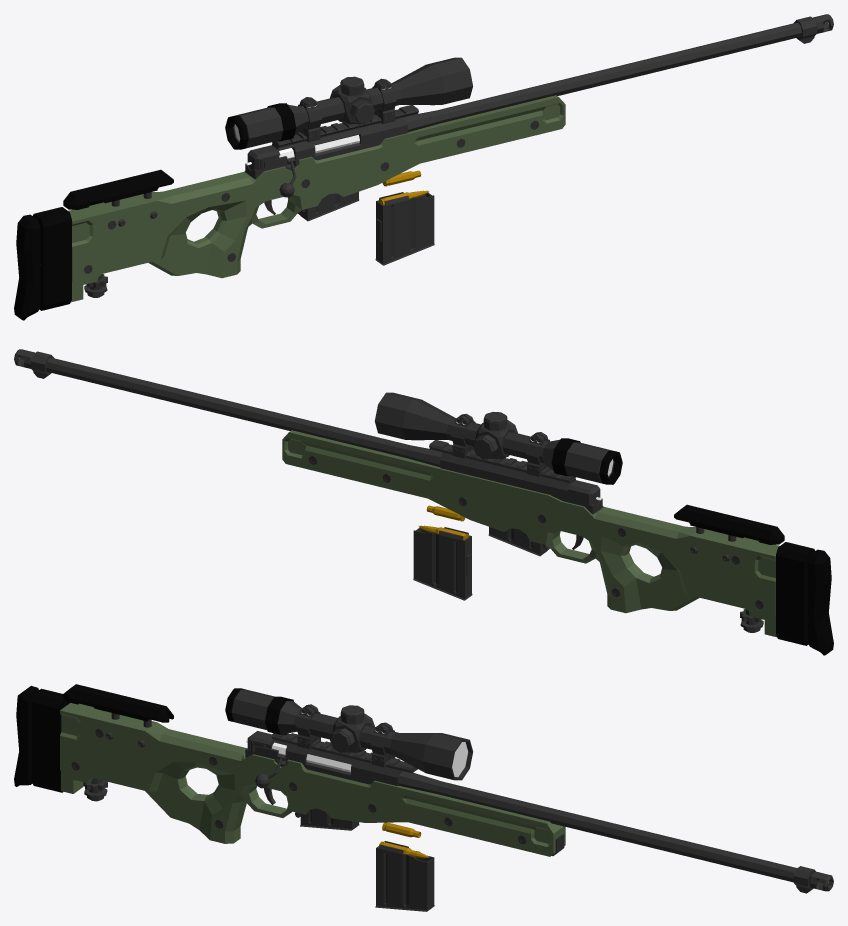
File: awp.glb
3 renders of one model, top to bottom at view 1: azimuth 30°, elevation 25°; view 2: azimuth 150°, elevation 25°; view 3: azimuth 330°, elevation 25°, orthographic.
Parts seen in each view (by area): view 1: Object_13, Object_15, Object_28, Object_8, Object_14, Object_20, Object_17, Object_29, Object_32, Object_6, Object_11, Object_23; view 2: Object_13, Object_15, Object_28, Object_8, Object_14, Object_20, Object_17, Object_29, Object_32, Object_6, Object_11, Object_23; view 3: Object_13, Object_15, Object_28, Object_8, Object_14, Object_17, Object_20, Object_32, Object_11, Object_29, Object_6, Object_25 (+1 smaller).
Part boxes in pixels (box(x1,y1,x2,y2)): Object_13: box(68, 95, 565, 302); Object_15: box(84, 22, 802, 297); Object_28: box(233, 57, 472, 148); Object_8: box(375, 190, 434, 265); Object_14: box(33, 207, 71, 310); Object_20: box(14, 214, 40, 320); Object_17: box(63, 169, 173, 209); Object_29: box(225, 103, 296, 149); Object_32: box(307, 76, 394, 137); Object_6: box(300, 192, 359, 221); Object_11: box(794, 14, 833, 43); Object_23: box(247, 145, 280, 170); Object_13: box(282, 430, 779, 637); Object_15: box(45, 357, 763, 632); Object_28: box(374, 392, 614, 483); Object_8: box(413, 525, 472, 600); Object_14: box(776, 542, 814, 645); Object_20: box(807, 549, 833, 655); Object_17: box(674, 504, 784, 544); Object_29: box(551, 438, 622, 484); Object_32: box(453, 412, 540, 472); Object_6: box(488, 527, 547, 556); Object_11: box(14, 349, 53, 378); Object_23: box(567, 480, 600, 505); Object_13: box(60, 703, 565, 856); Object_15: box(71, 728, 796, 882); Object_28: box(231, 689, 473, 780); Object_8: box(375, 841, 434, 911); Object_14: box(31, 688, 69, 792); Object_17: box(63, 684, 173, 722); Object_20: box(14, 685, 38, 786); Object_32: box(297, 705, 385, 763); Object_11: box(793, 866, 833, 893); Object_29: box(225, 688, 293, 734); Object_6: box(300, 808, 359, 830); Object_25: box(246, 740, 351, 772).
Bounding box in the file's own units: 1.18 × 0.2608 × 0.0728.
